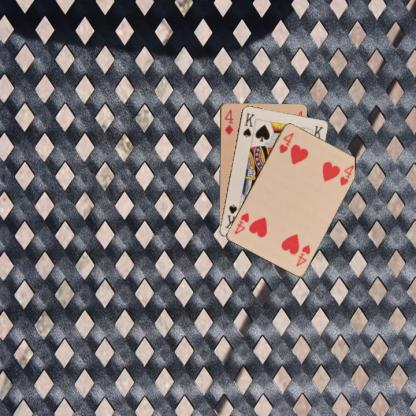4d: (222, 107, 234, 136)
4h: (293, 242, 311, 268), (277, 130, 295, 154)
Ks: (240, 110, 256, 138)
